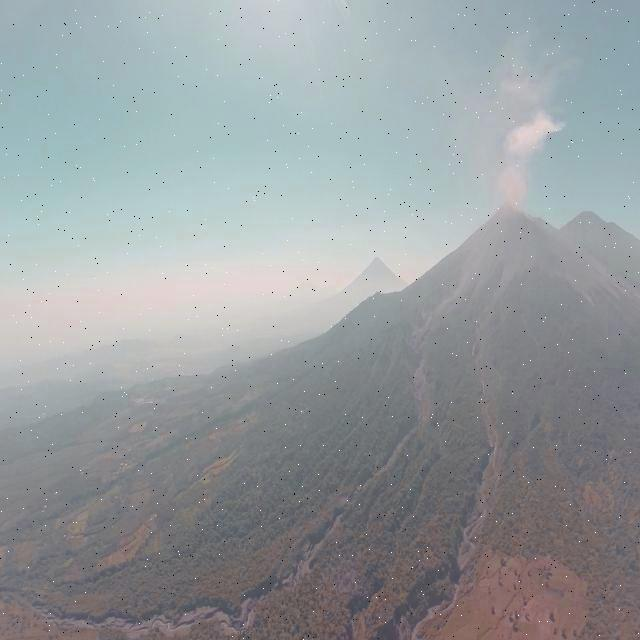Plume: (489, 109, 564, 212)
Summit: (490, 202, 531, 220)
